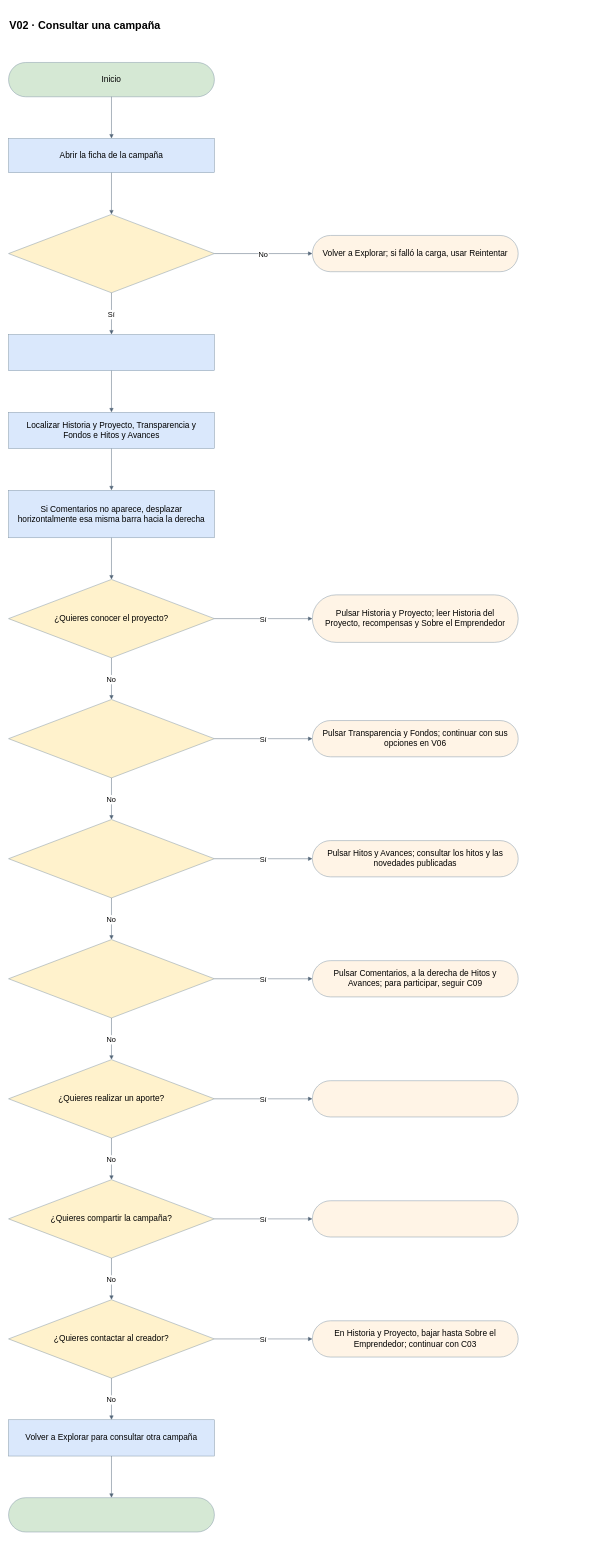
Image size: 595x1541. Some labels were removed from this diagram. The shapes that lost their labels are listed below. From the top down, each one's centre as x and y in pixels, then its label:
the point at 111,253: ¿La campaña está disponible?
the point at 111,352: Leer el título, resumen, creador, Recaudado, Meta, Donantes y Días Restantes
the point at 111,738: ¿Quieres consultar fondos y evidencias?
the point at 111,858: ¿Quieres consultar los avances?
the point at 111,978: ¿Quieres leer o publicar comentarios?
the point at 415,1098: Consultar las condiciones del aporte y continuar con D03
the point at 415,1218: Pulsar Compartir Campaña y continuar con V05
the point at 111,1514: Fin
